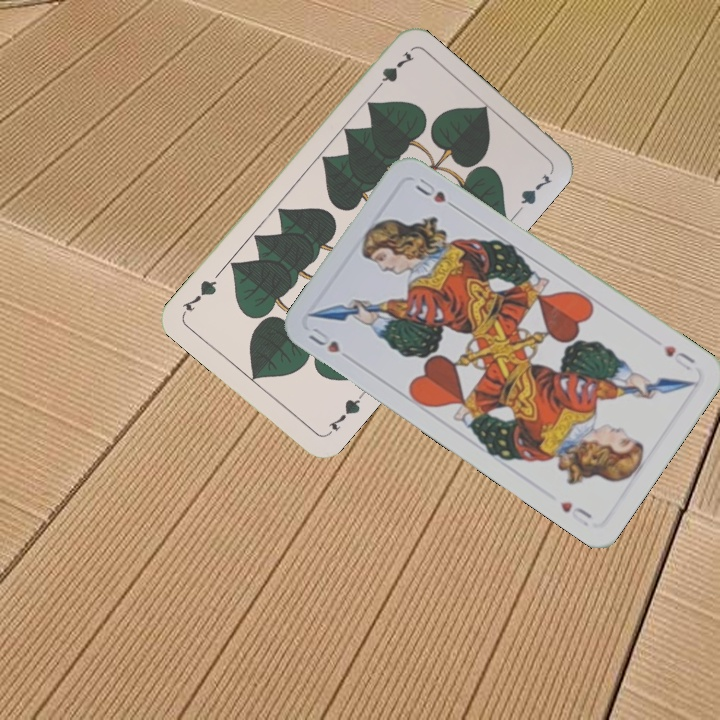G7: (369, 46, 417, 96), (323, 389, 367, 438)
HU: (660, 341, 699, 374), (304, 323, 343, 356)
